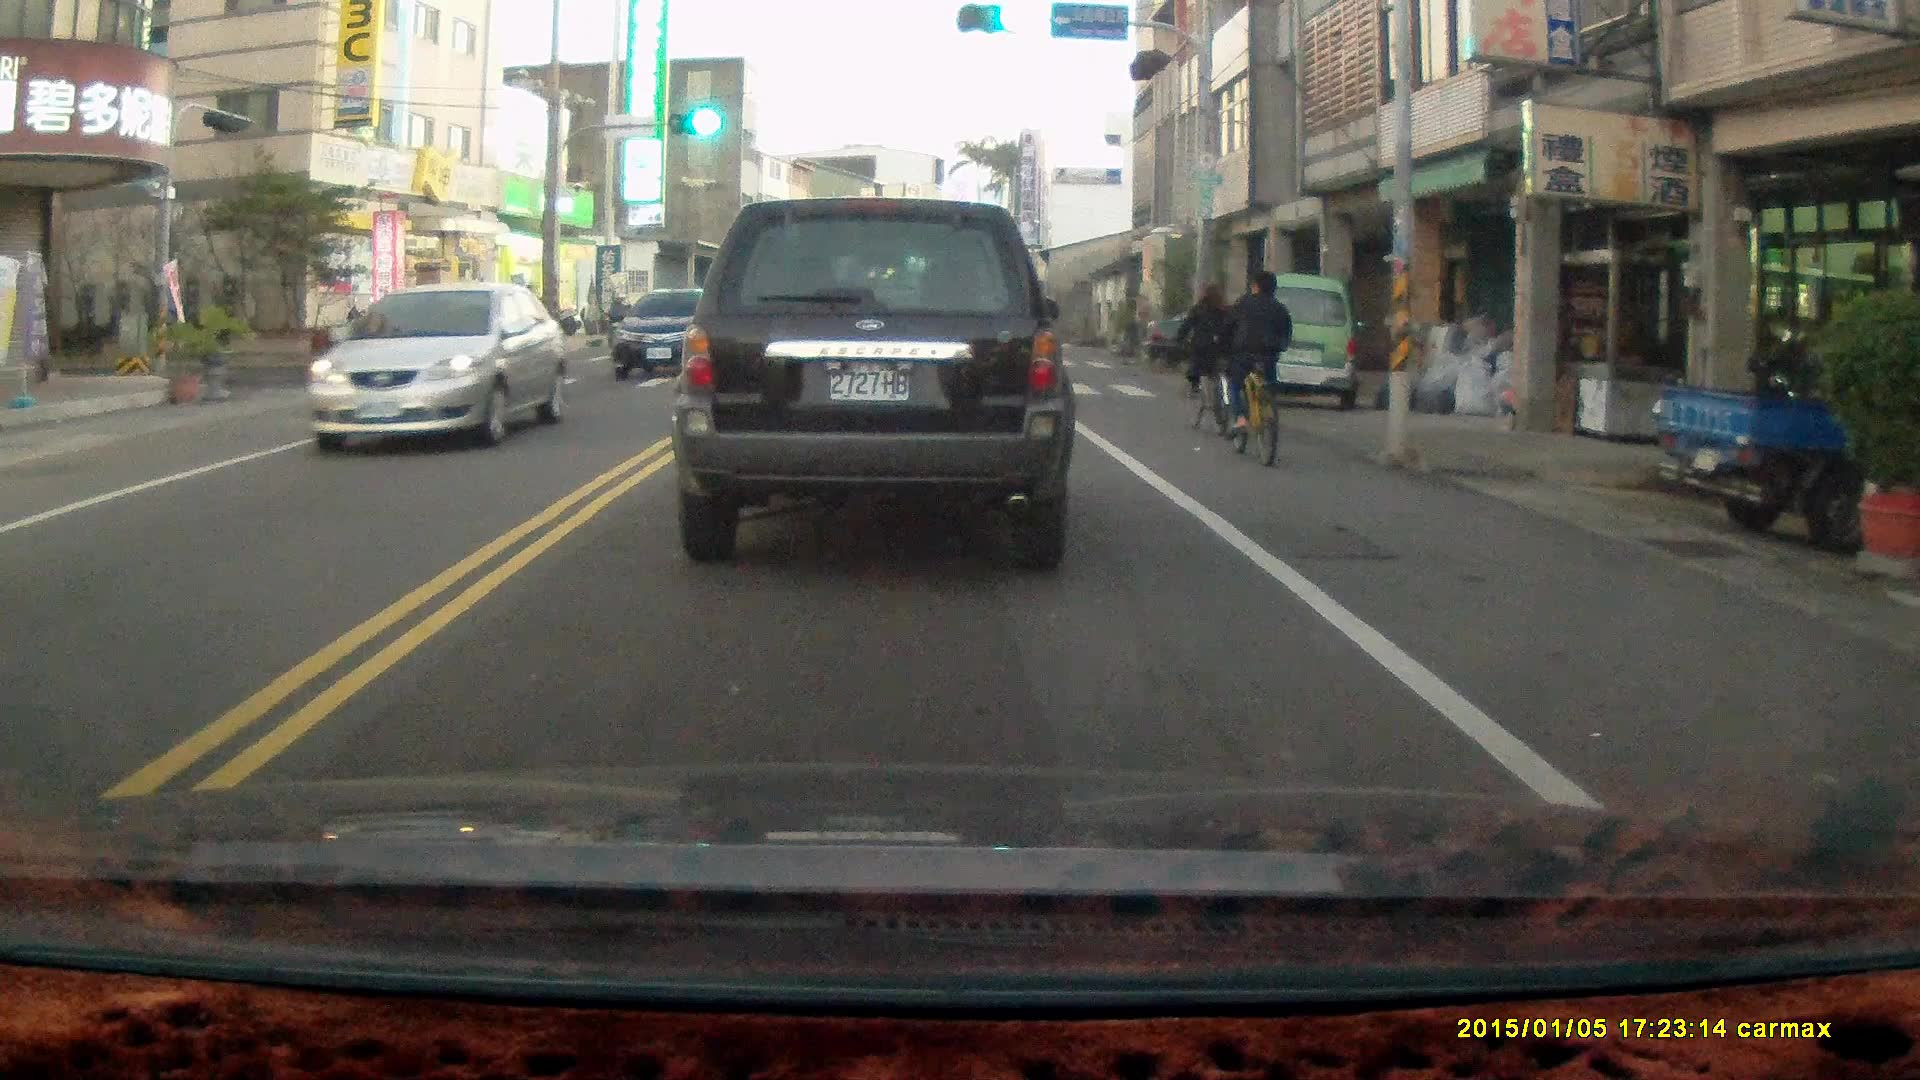rider: (1210, 266, 1289, 469), (1169, 279, 1240, 436), (604, 291, 629, 366)
vehicle: (672, 195, 1080, 569), (309, 284, 572, 448), (1248, 274, 1364, 415), (611, 284, 738, 384)
